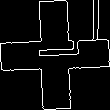L_W: (29, 39, 81, 71)
